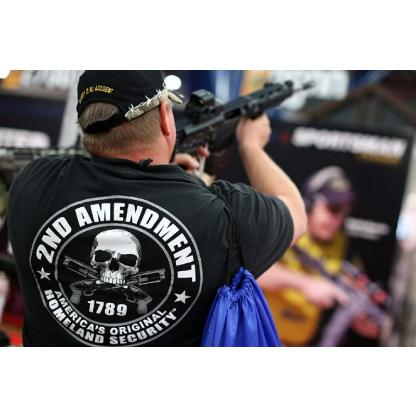gun: (152, 75, 318, 175)
